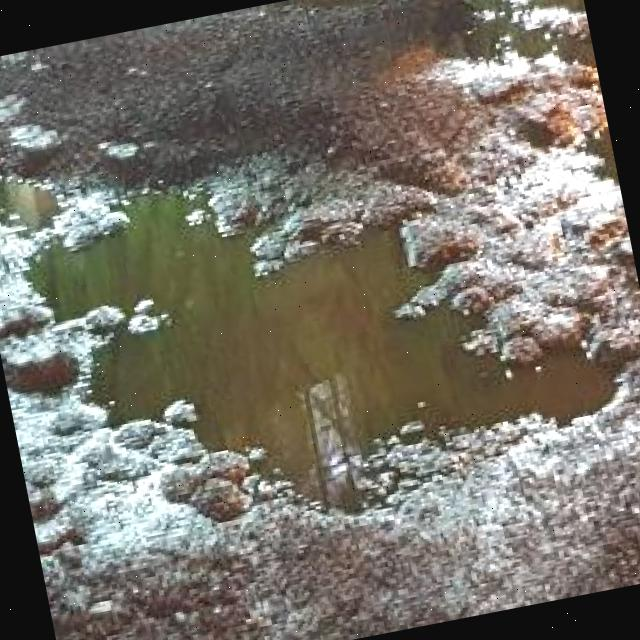stagnation: (19, 175, 640, 532)
